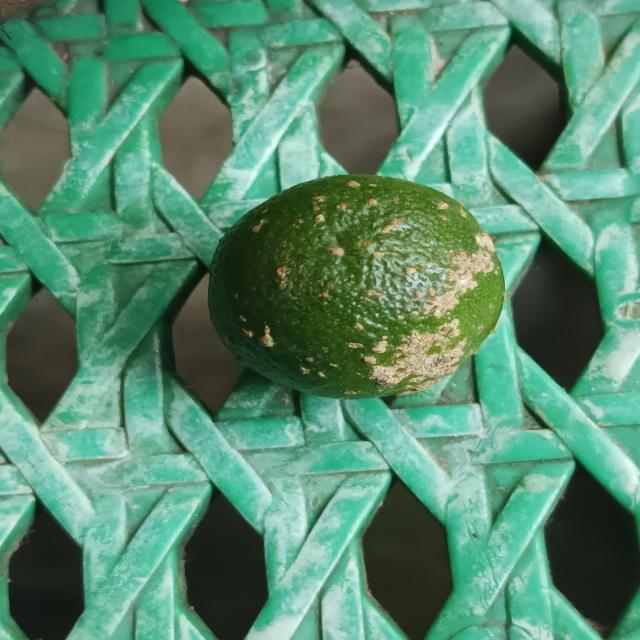scab: (205, 174, 507, 400)
